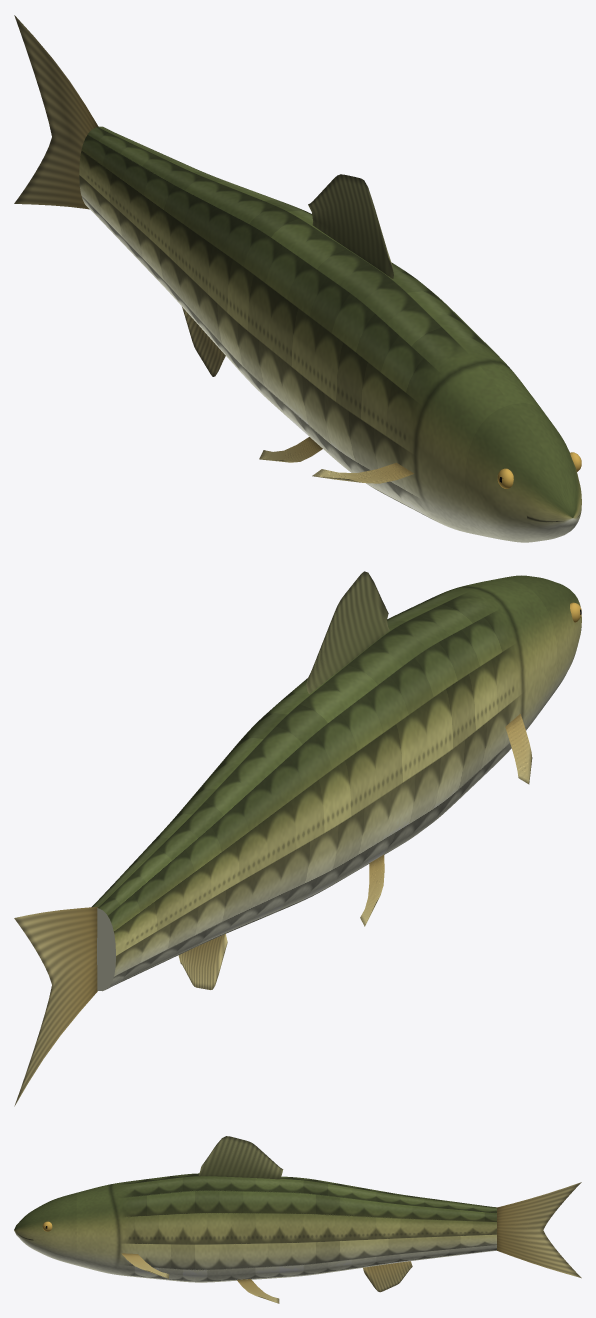
The model's file is white_amur.obj.
3 renders of one model, top to bottom at view 1: azimuth 30°, elevation 25°; view 2: azimuth 150°, elevation 25°; view 3: azimuth 270°, elevation 25°, orthographic. The views are drawn at different scales.
Visible parts, largest first — view 1: white_amur_body, white_amur_fin_p, white_amur_fin_d; view 2: white_amur_body, white_amur_fin_p, white_amur_fin_d; view 3: white_amur_body, white_amur_fin_p, white_amur_fin_d.
Part boxes in pixels (x1,y1,x2,y2): white_amur_body: (79, 126, 581, 542); white_amur_fin_p: (14, 15, 413, 483); white_amur_fin_d: (308, 174, 393, 278); white_amur_body: (91, 575, 581, 991); white_amur_fin_p: (14, 714, 532, 1106); white_amur_fin_d: (306, 571, 389, 693); white_amur_body: (14, 1173, 496, 1282); white_amur_fin_p: (121, 1182, 581, 1303); white_amur_fin_d: (198, 1136, 283, 1179).
Size of the model in its own units: 0.198 by 0.2678 by 0.882.
5 materials, 3 textured.
